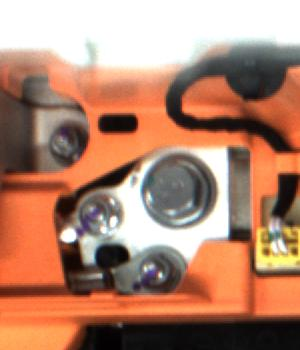nut_b: (133, 149, 226, 235)
